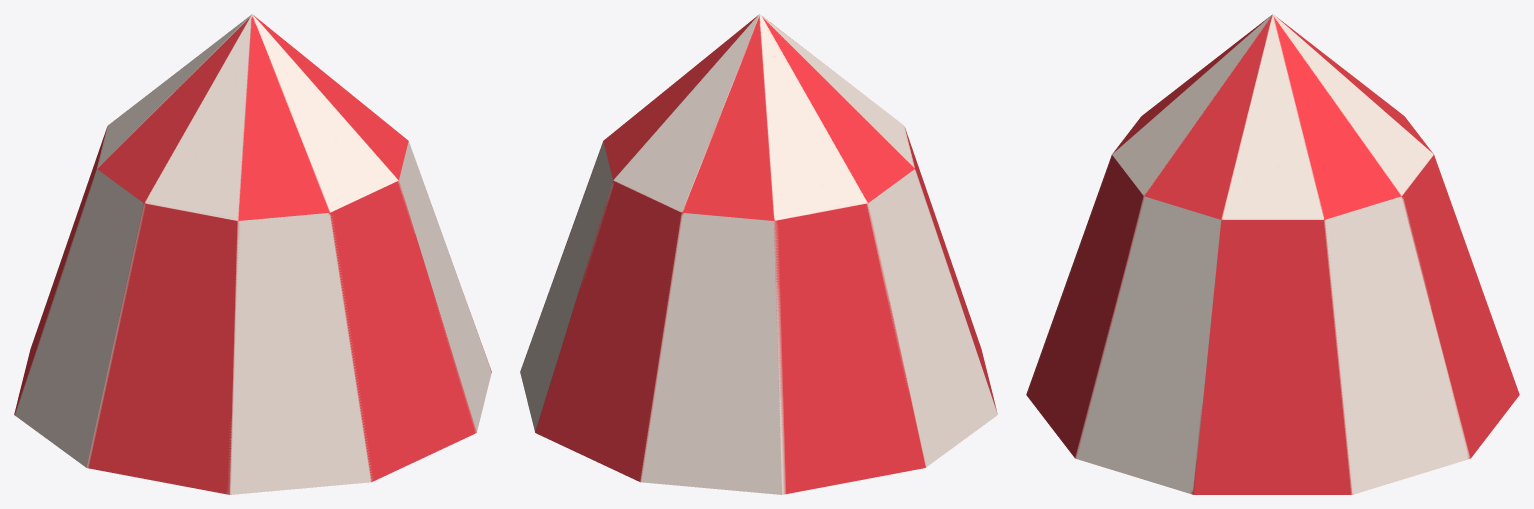
Rendered from tentModel.fbx.
3 renders of one model, left to right at view 1: azimuth 30°, elevation 25°; view 2: azimuth 150°, elevation 25°; view 3: azimuth 270°, elevation 25°, orthographic.
Parts seen in each view (by area): view 1: Gengon001; view 2: Gengon001; view 3: Gengon001.
Boxes of the visible parts, x1=… form: Gengon001: x1=14, y1=14, x2=491, y2=494; Gengon001: x1=520, y1=14, x2=997, y2=494; Gengon001: x1=1026, y1=14, x2=1519, y2=494.
Size of the model in its own units: 177 by 159 by 187.
